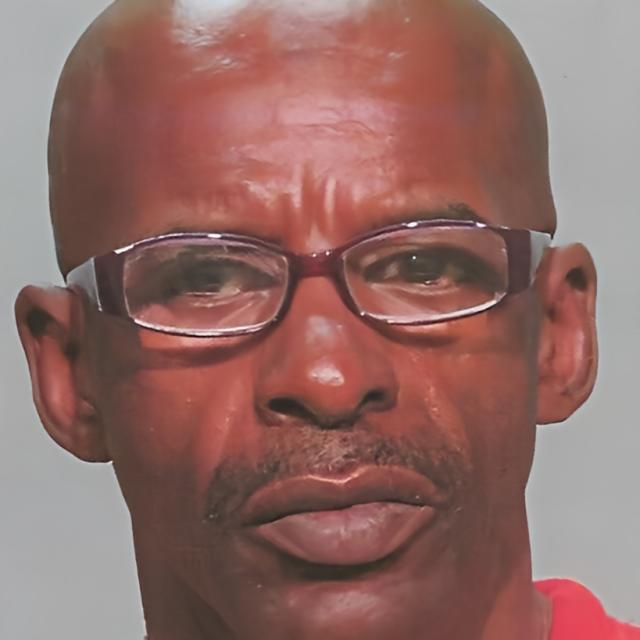anger: (91, 66, 546, 640)
